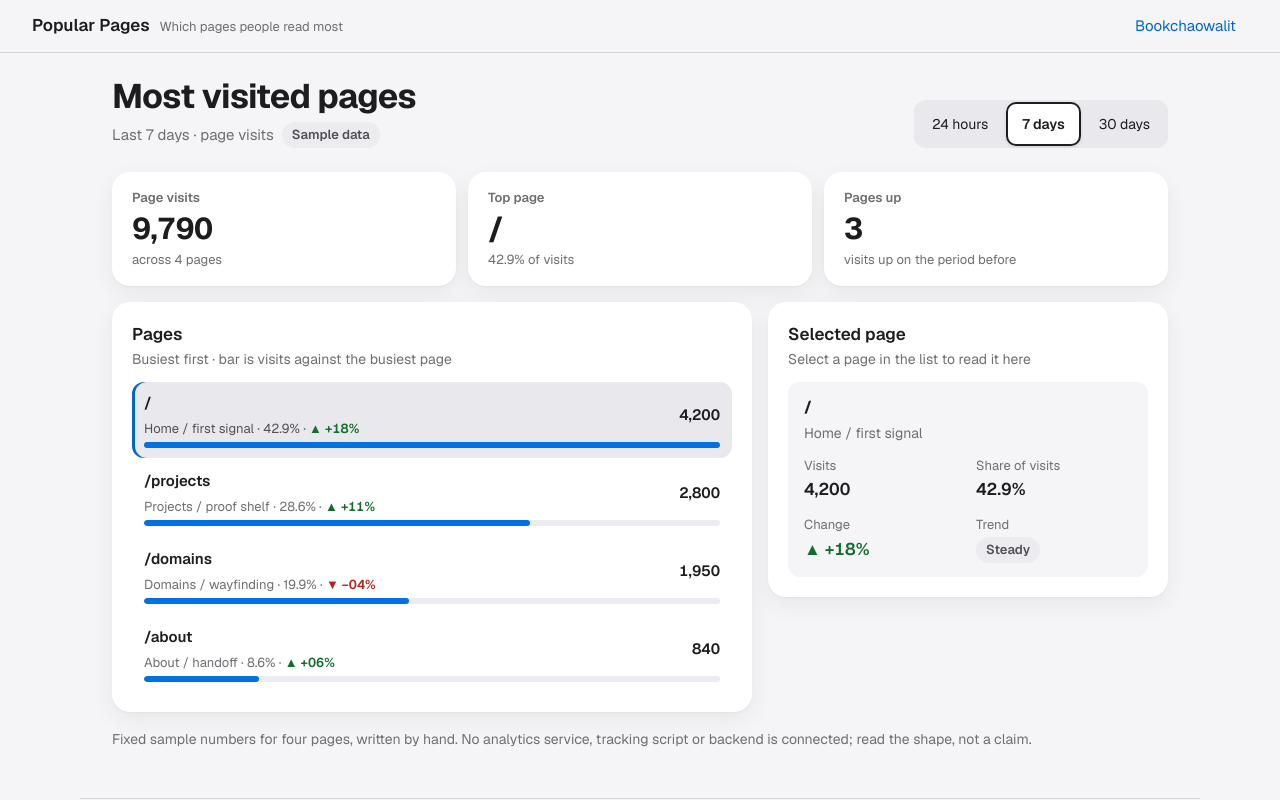
Test: popular pages › points from the picked row to the Selected page panel, which sits below the list on phones
This screenshot has width=1280, height=800.
Click the button "/projects Projects / proof shelf · 28.6% · ▲ +11% 2,800": (432, 498) [132,460,732,536]
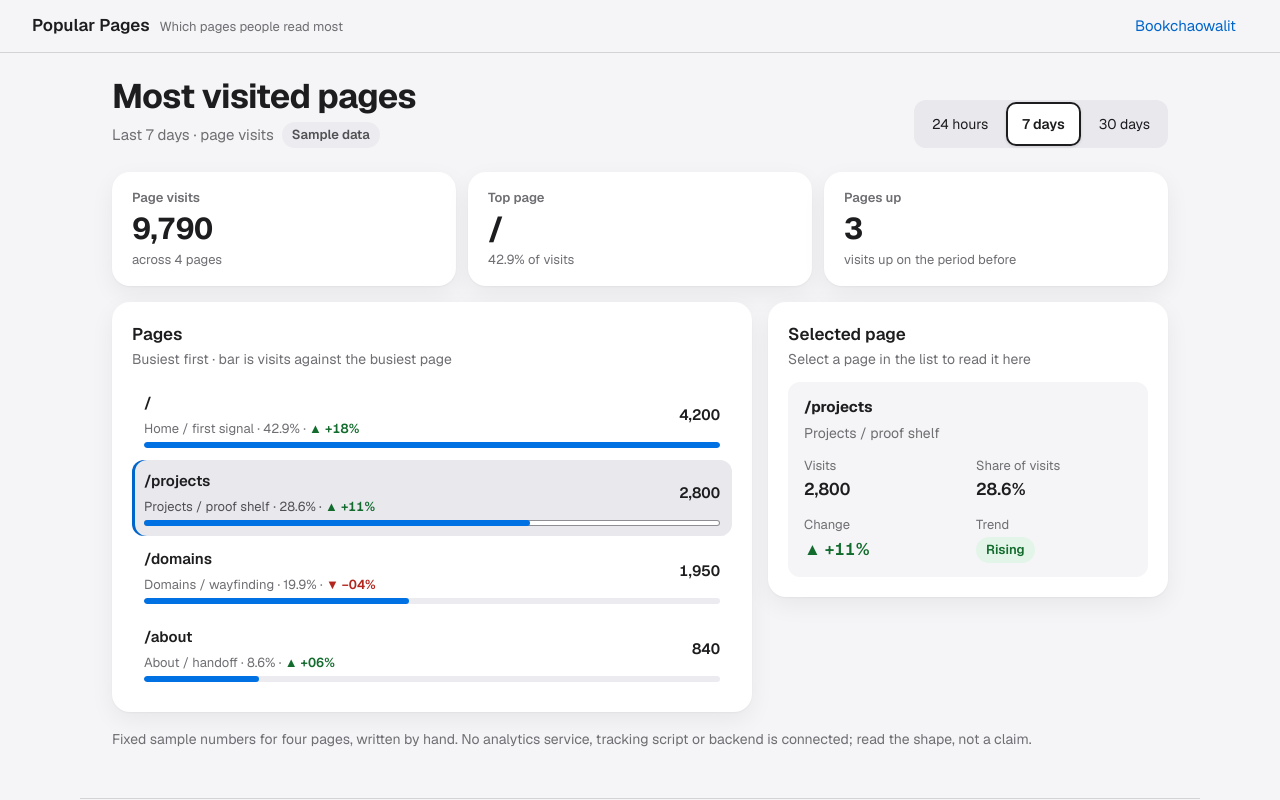
Check: the 2nd text with class "ds-row-name" reads "/projects", box [144,471,210,490]
Check: the element with id "selected-page" shows "/projects", box [804,397,872,416]
